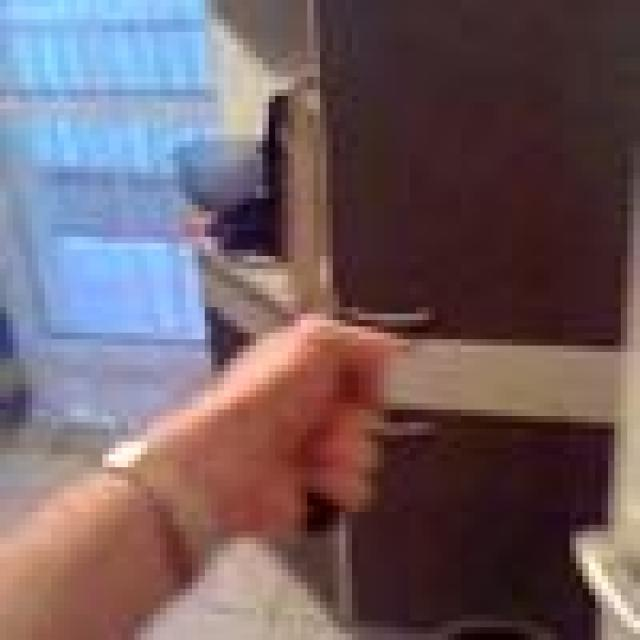knife: (288, 48, 336, 331)
